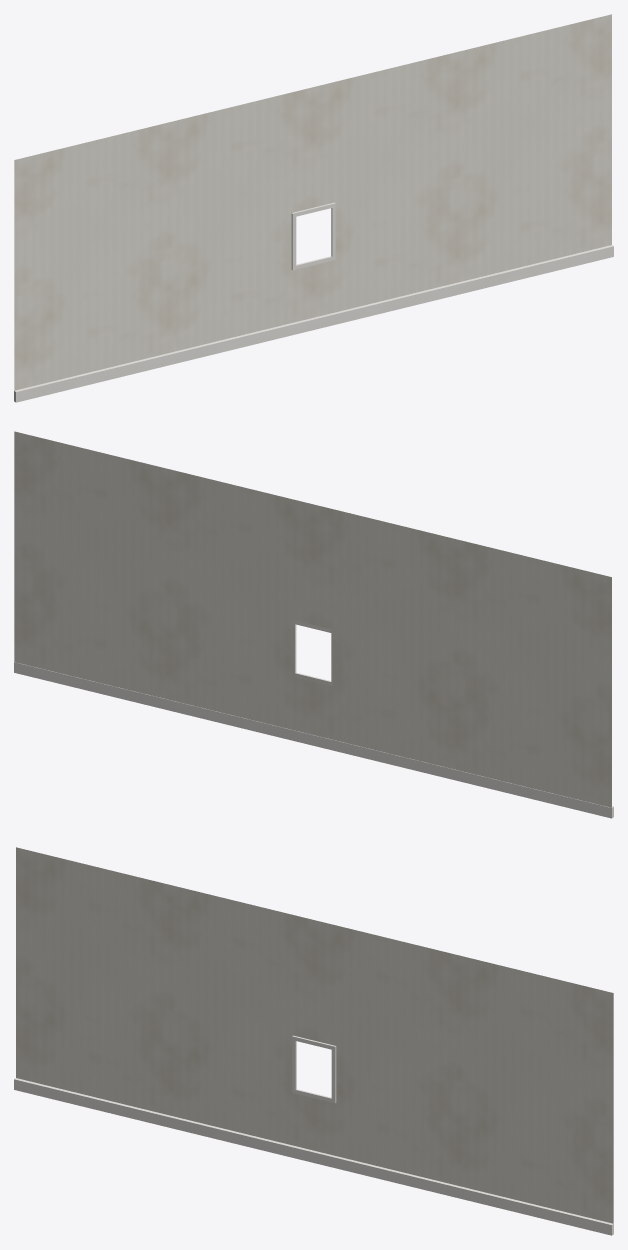
File: wall8_vent_hi.gltf
3 views of the same model, one above another, from view 1: azimuth 30°, elevation 25°; view 2: azimuth 150°, elevation 25°; view 3: azimuth 330°, elevation 25° (orthographic).
Visible parts, largest first — view 1: jx_w8_vent_hi; view 2: jx_w8_vent_hi; view 3: jx_w8_vent_hi.
Boxes of the visible parts, x1=… form: jx_w8_vent_hi: x1=14, y1=14, x2=613, y2=402; jx_w8_vent_hi: x1=14, y1=431, x2=613, y2=818; jx_w8_vent_hi: x1=14, y1=847, x2=613, y2=1235.
Bounding box in the file's own units: 8.3 × 3.2 × 0.05.
Materials: 2 (2 with a texture image).
